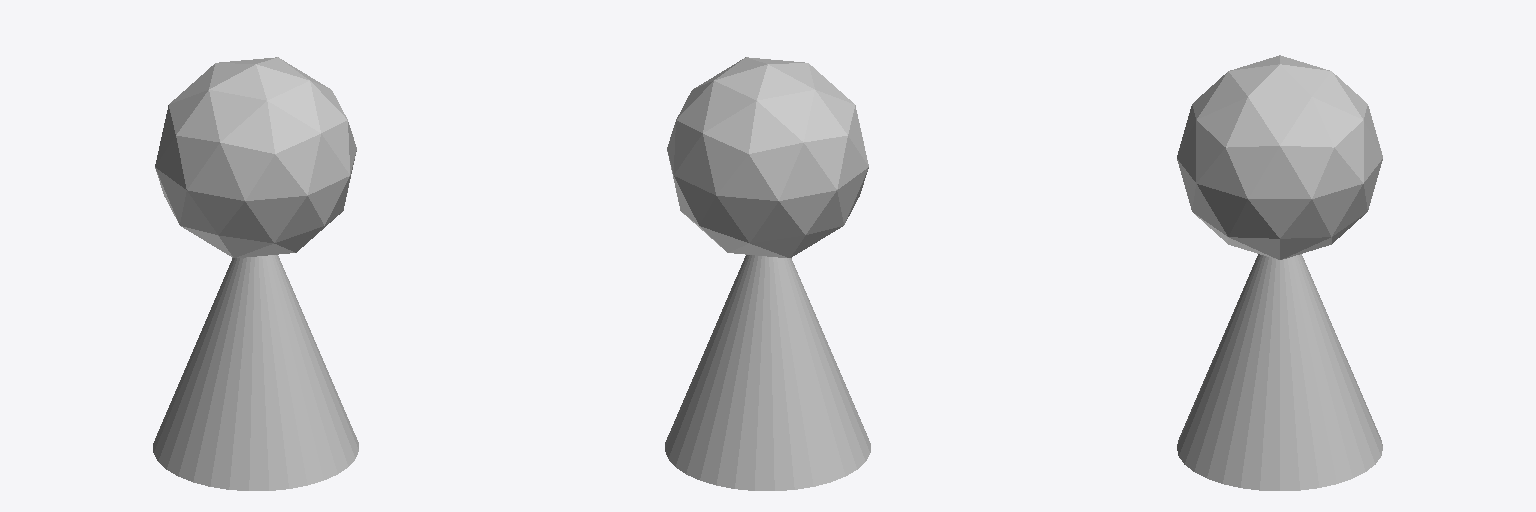
File: player.obj
3 renders of one model, left to right at view 1: azimuth 30°, elevation 25°; view 2: azimuth 150°, elevation 25°; view 3: azimuth 270°, elevation 25°, orthographic.
Visible parts, largest first — view 1: 円錐, ICO球; view 2: 円錐, ICO球; view 3: 円錐, ICO球.
Part boxes in pixels (left/top/right/bottom): 円錐: left=153, top=255, right=358, bottom=490; ICO球: left=155, top=57, right=356, bottom=257; 円錐: left=665, top=255, right=870, bottom=490; ICO球: left=667, top=57, right=868, bottom=257; 円錐: left=1177, top=254, right=1382, bottom=490; ICO球: left=1177, top=55, right=1382, bottom=259.
Bounding box in the file's own units: 2 × 4.09 × 2.